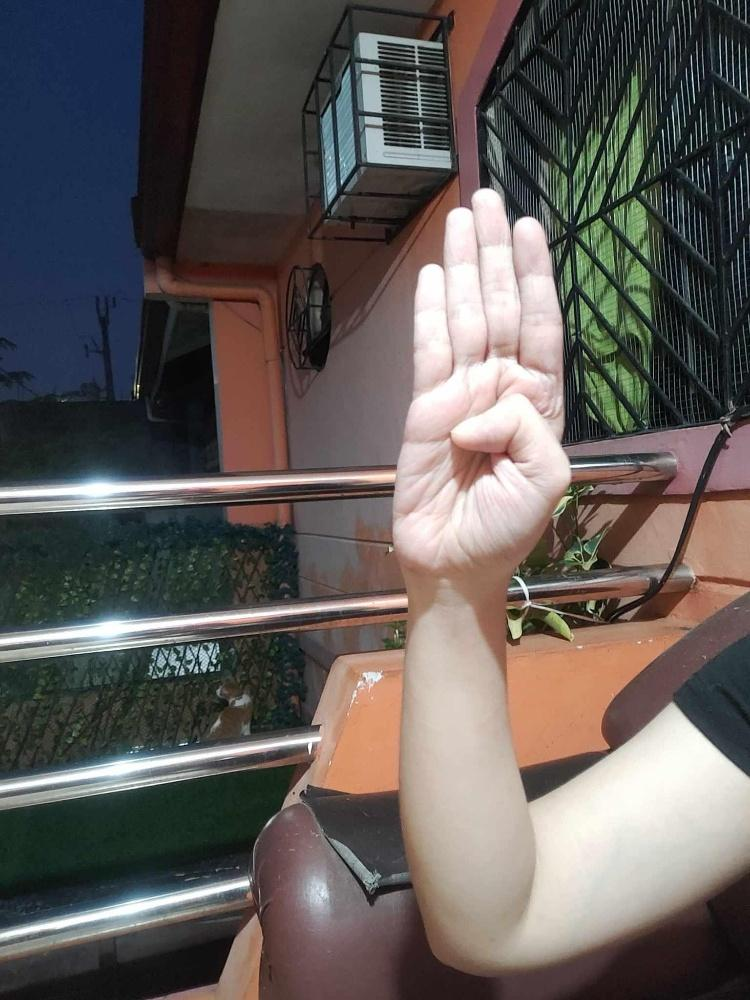b: (391, 186, 571, 586)
